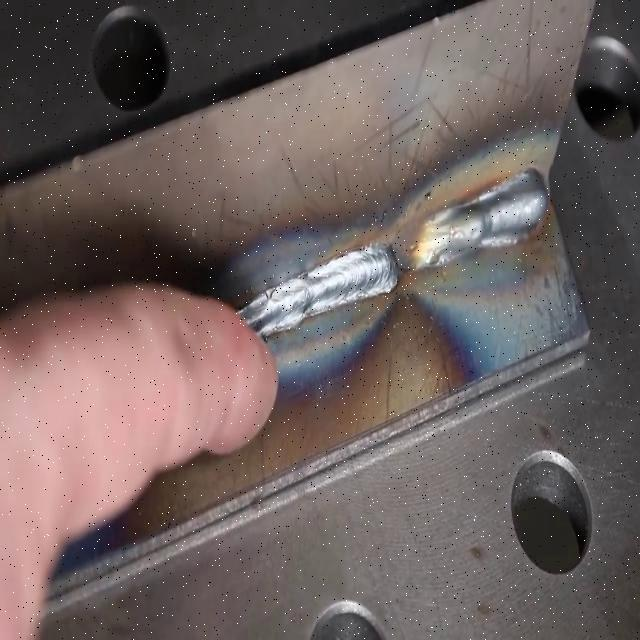Bad Welding: (239, 244, 399, 340), (463, 222, 465, 227)
Good Welding: (394, 169, 549, 267)
